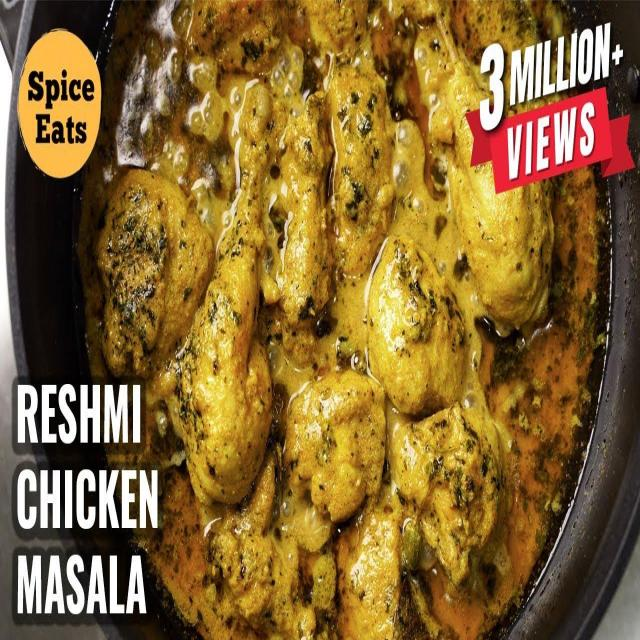chicken: (94, 13, 602, 640)
